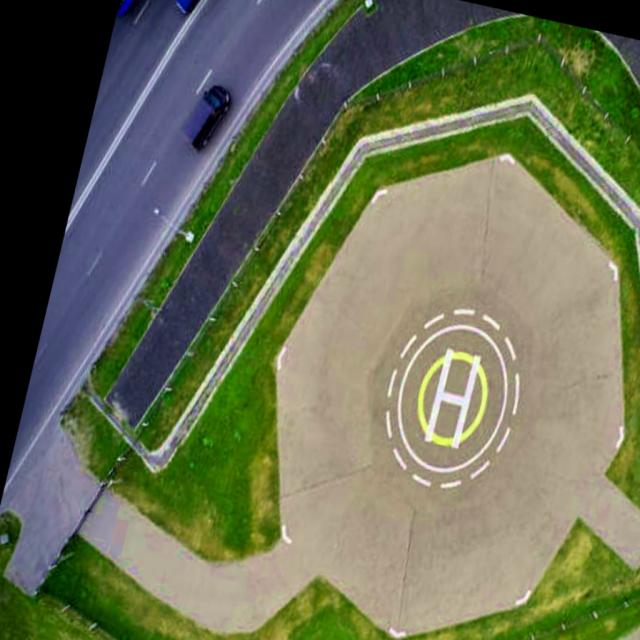helipad: (411, 346, 494, 451)
